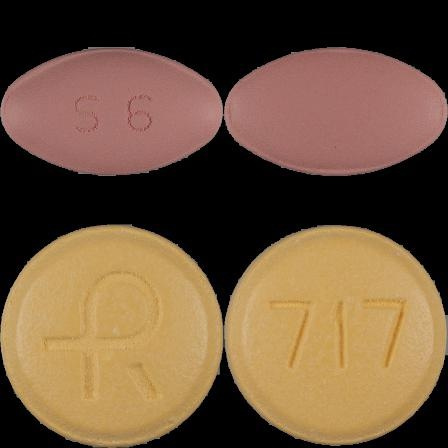35356-775: (0, 0, 224, 224)
